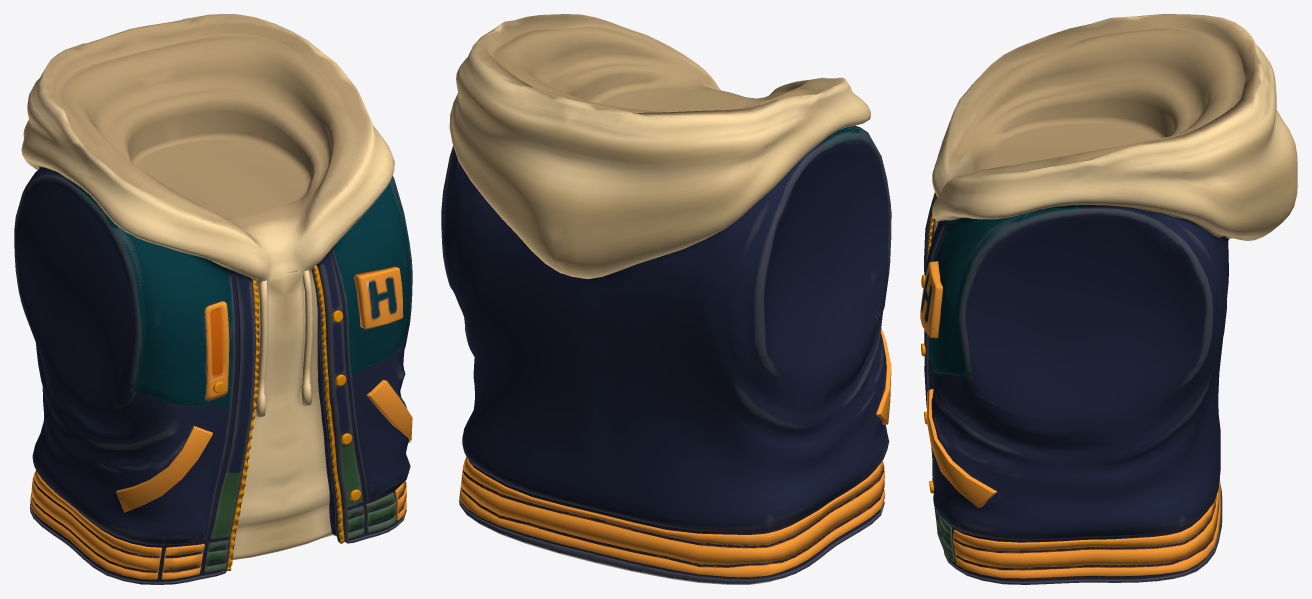
Rendered from Body.glb.
3 renders of one model, left to right at view 1: azimuth 30°, elevation 25°; view 2: azimuth 150°, elevation 25°; view 3: azimuth 270°, elevation 25°, orthographic. The views are drawn at different scales.
Visible parts, largest first — view 1: Body_low; view 2: Body_low; view 3: Body_low.
Boxes of the visible parts, x1,y1,x2,y2 form: Body_low: (14, 14, 412, 584); Body_low: (441, 14, 891, 584); Body_low: (920, 14, 1297, 584).
Size of the model in its own units: 0.3704 by 0.4923 by 0.3817.
Materials: 3 (1 with a texture image).
